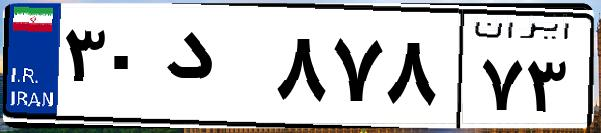0: (110, 28, 158, 98)
3: (57, 26, 110, 100), (525, 38, 570, 115)
7: (330, 28, 385, 110), (475, 38, 525, 113)
8: (270, 28, 330, 110), (385, 28, 445, 110)
د: (158, 20, 270, 120)
